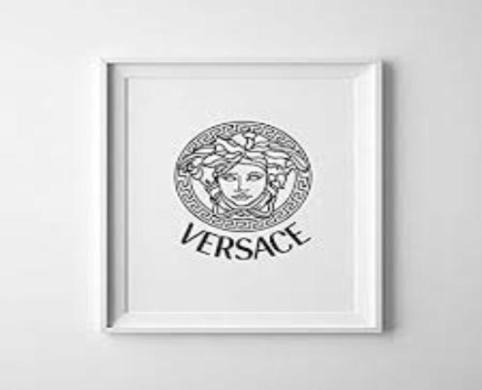VERSACE: (158, 111, 332, 278)
